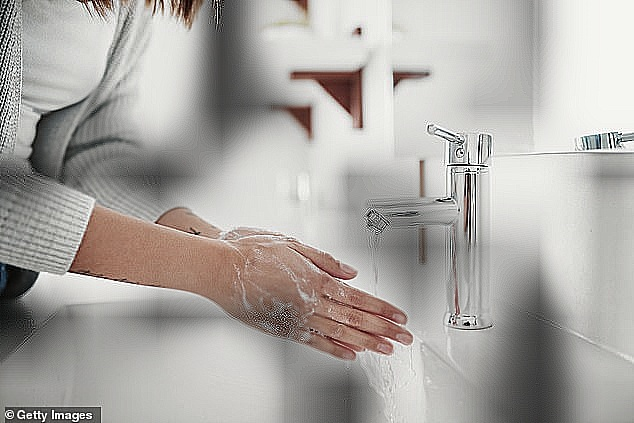washing hand: (192, 45, 544, 404)
